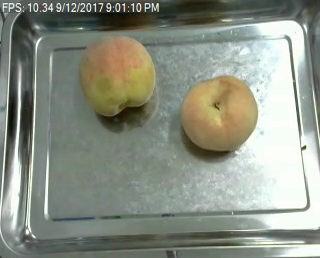Peach: (78, 37, 157, 117), (180, 74, 259, 151)
